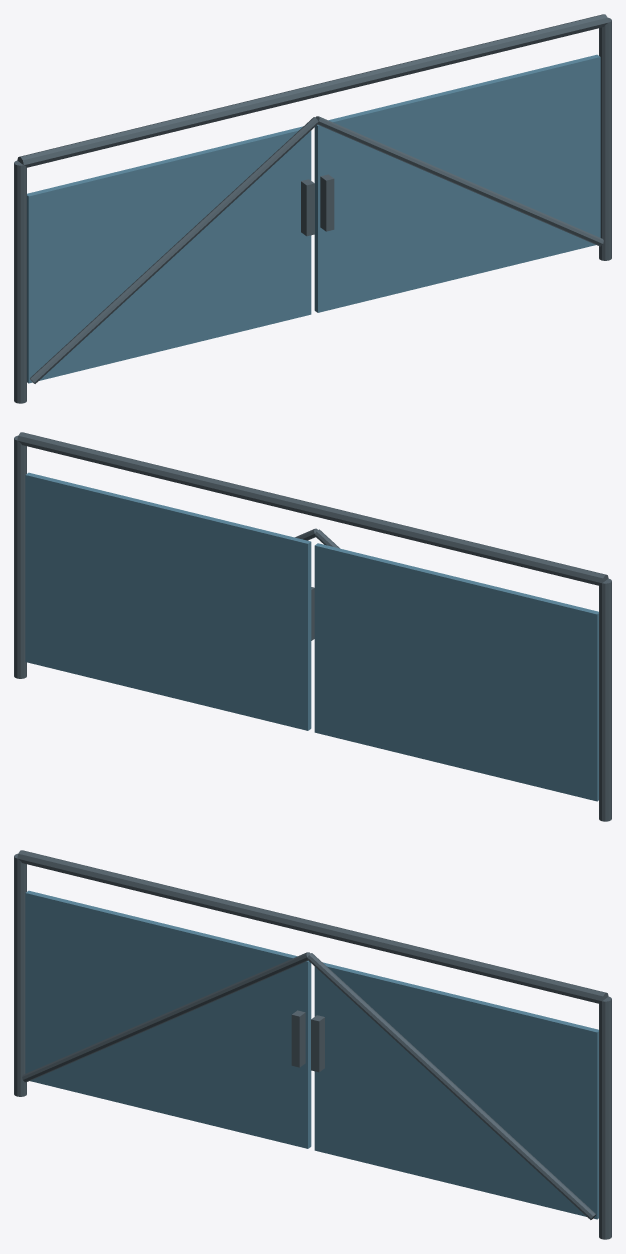
The model's file is maintenance-gate-ca2724cf.glb.
3 renders of one model, top to bottom at view 1: azimuth 30°, elevation 25°; view 2: azimuth 150°, elevation 25°; view 3: azimuth 330°, elevation 25°, orthographic.
Visible parts, largest first — view 1: maintenance-gate; view 2: maintenance-gate; view 3: maintenance-gate.
Boxes of the visible parts, box(x1,y1,x2,y2) form: maintenance-gate: box(14, 14, 611, 403); maintenance-gate: box(14, 432, 611, 821); maintenance-gate: box(14, 850, 611, 1239).
Size of the model in its own units: 3.67 by 1.44 by 0.1151.
